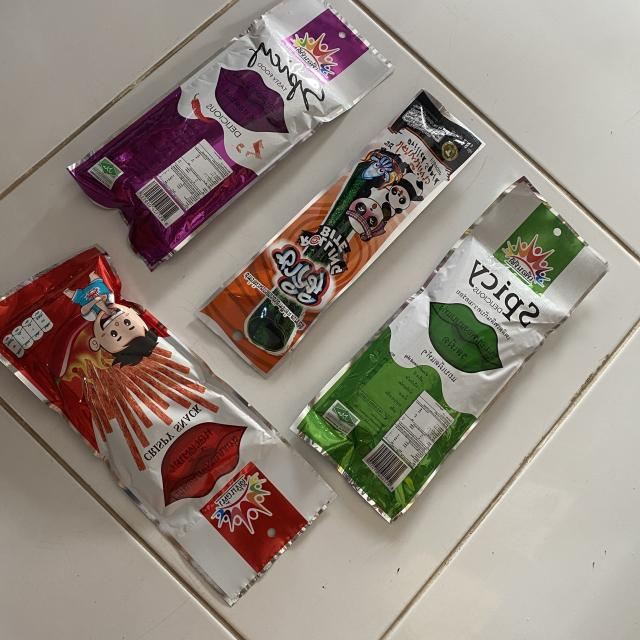plastik: (0, 247, 335, 604), (291, 179, 608, 522), (69, 0, 393, 269), (197, 91, 483, 376)
